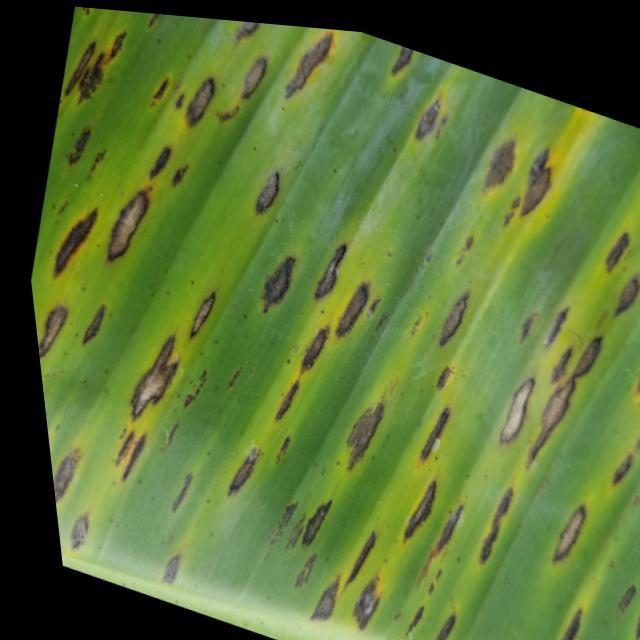Early_rust: (30, 1, 640, 640)
